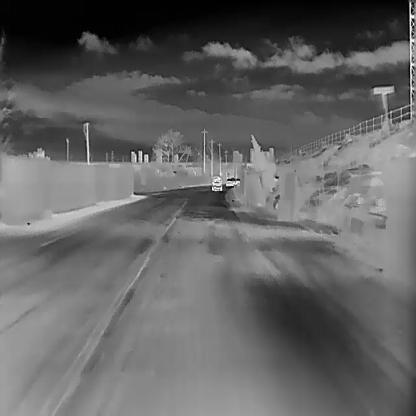car: (211, 176, 222, 190), (226, 178, 233, 185), (230, 176, 235, 184), (235, 178, 240, 183)
